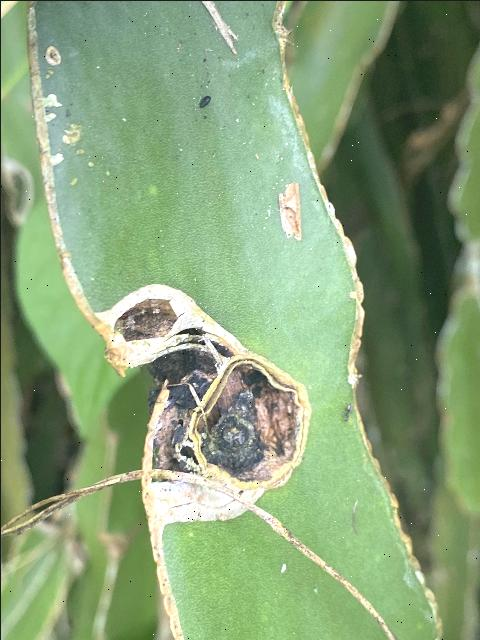stemcanker: (116, 287, 313, 527)
